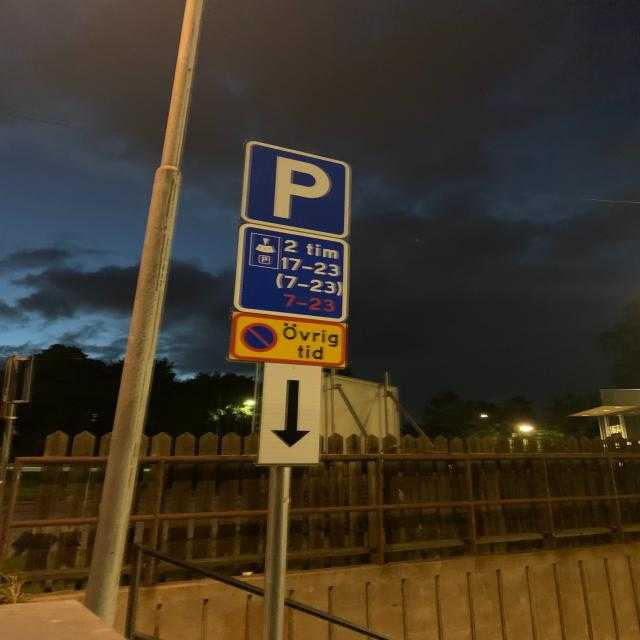psign: (240, 142, 350, 238)
